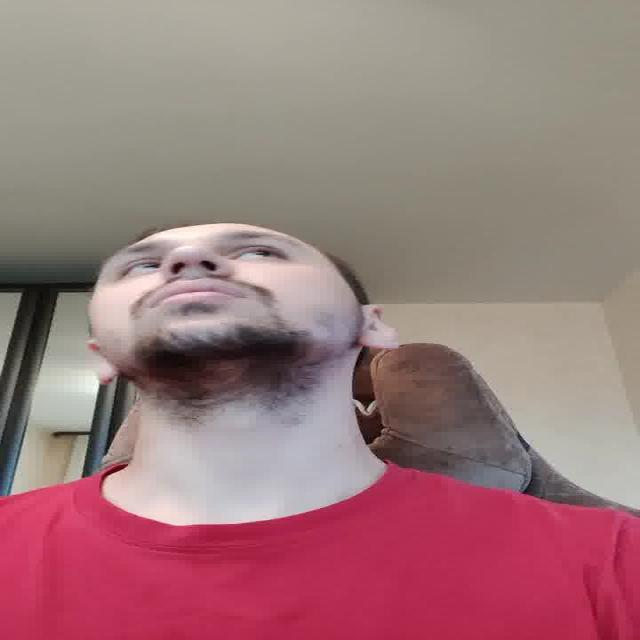earlobe: (357, 304, 397, 350), (85, 337, 122, 384)
